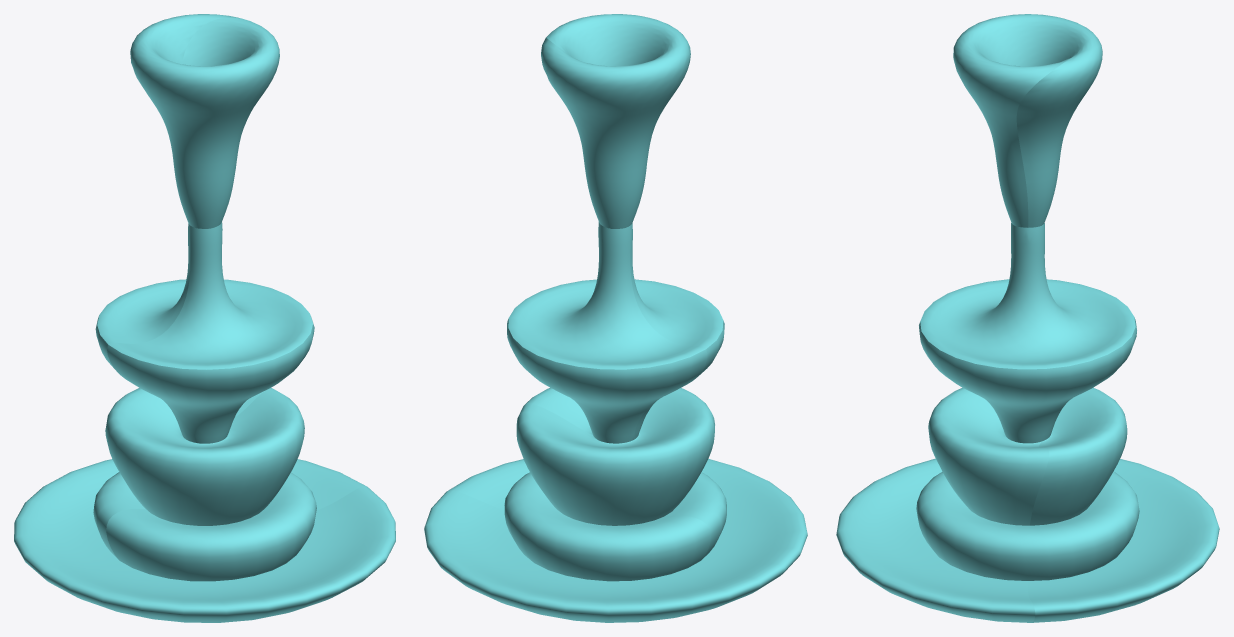
3 views of the same model, side by side, from view 1: azimuth 30°, elevation 25°; view 2: azimuth 150°, elevation 25°; view 3: azimuth 270°, elevation 25° (orthographic).
Parts seen in each view (by area): view 1: split_parent_0; view 2: split_parent_0; view 3: split_parent_0.
Part boxes in pixels (box(x1,y1,x2,y2)): split_parent_0: box(14, 14, 395, 622); split_parent_0: box(424, 14, 807, 622); split_parent_0: box(836, 14, 1219, 622).
Bounding box in the file's own units: 0.6545 × 1 × 0.6543.
